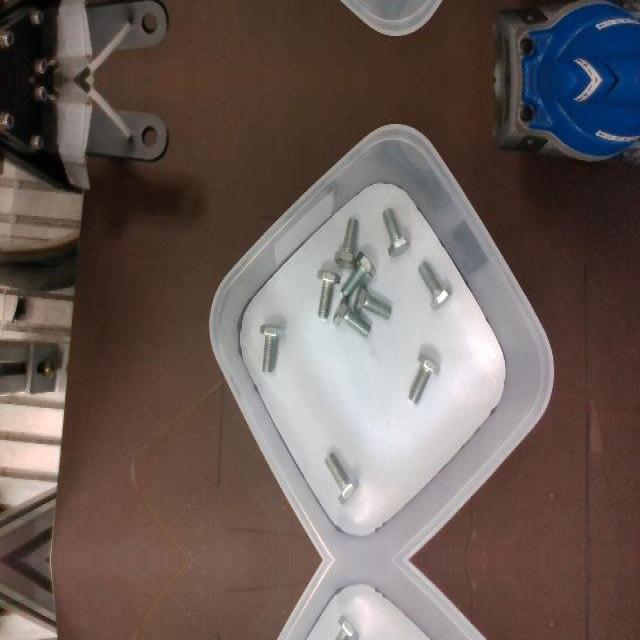screw: (324, 452, 359, 504), (418, 260, 453, 310), (340, 251, 376, 299), (408, 353, 441, 405), (332, 295, 370, 337), (382, 207, 411, 257), (353, 283, 391, 321), (334, 217, 358, 267), (259, 324, 283, 372), (317, 269, 340, 319), (323, 616, 358, 640)
